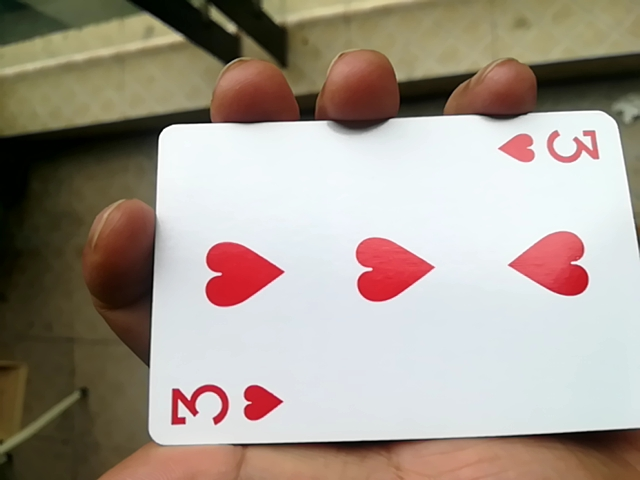hx 3: (131, 118, 634, 461)
